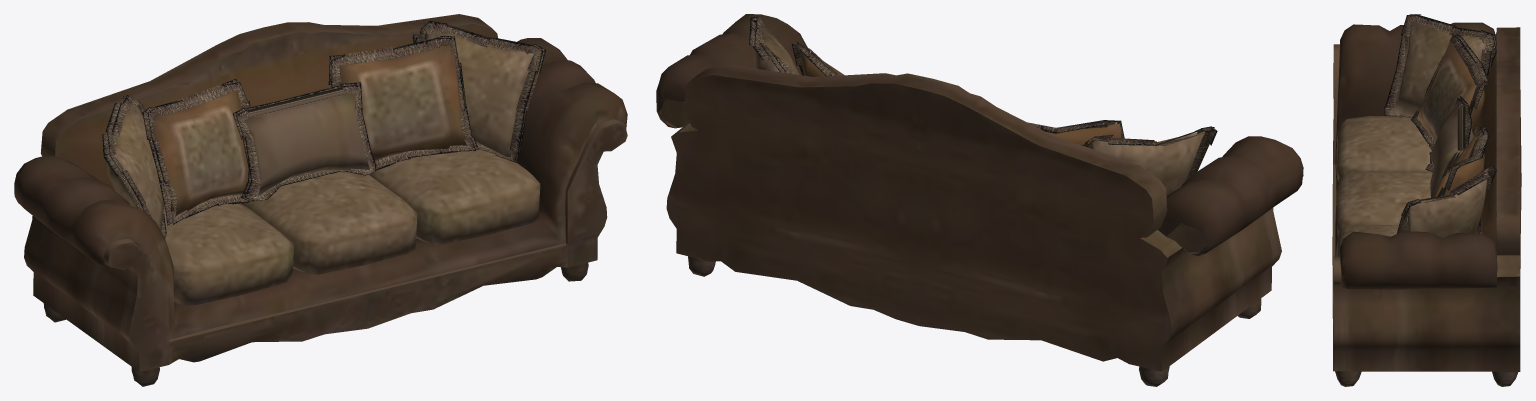
The model's file is sofa_03.glb.
3 renders of one model, left to right at view 1: azimuth 30°, elevation 25°; view 2: azimuth 150°, elevation 25°; view 3: azimuth 270°, elevation 25°, orthographic. The views are drawn at different scales.
Visible parts, largest first — view 1: sofa_03; view 2: sofa_03; view 3: sofa_03.
Boxes of the visible parts, left/top/right/bottom form: sofa_03: left=14, top=14, right=627, bottom=386; sofa_03: left=656, top=14, right=1303, bottom=386; sofa_03: left=1332, top=14, right=1521, bottom=386.
Bounding box in the file's own units: 2.73 × 1.12 × 0.9235.
2 materials, 2 textured.
